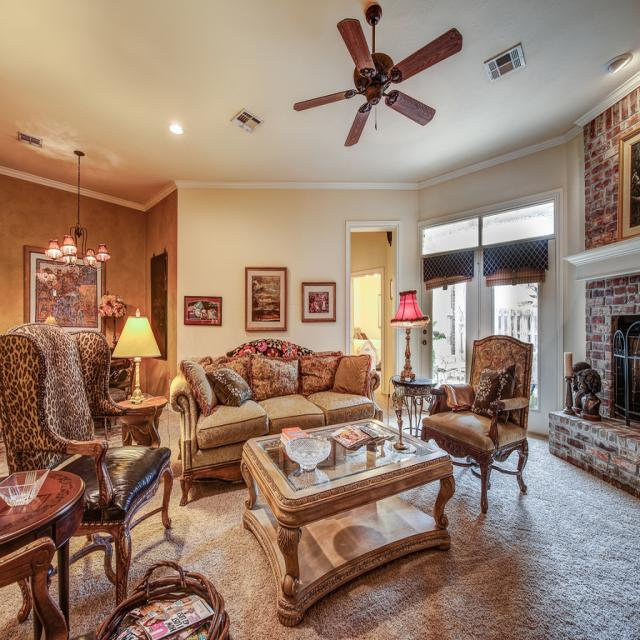Bulb: (296, 17, 464, 154)
